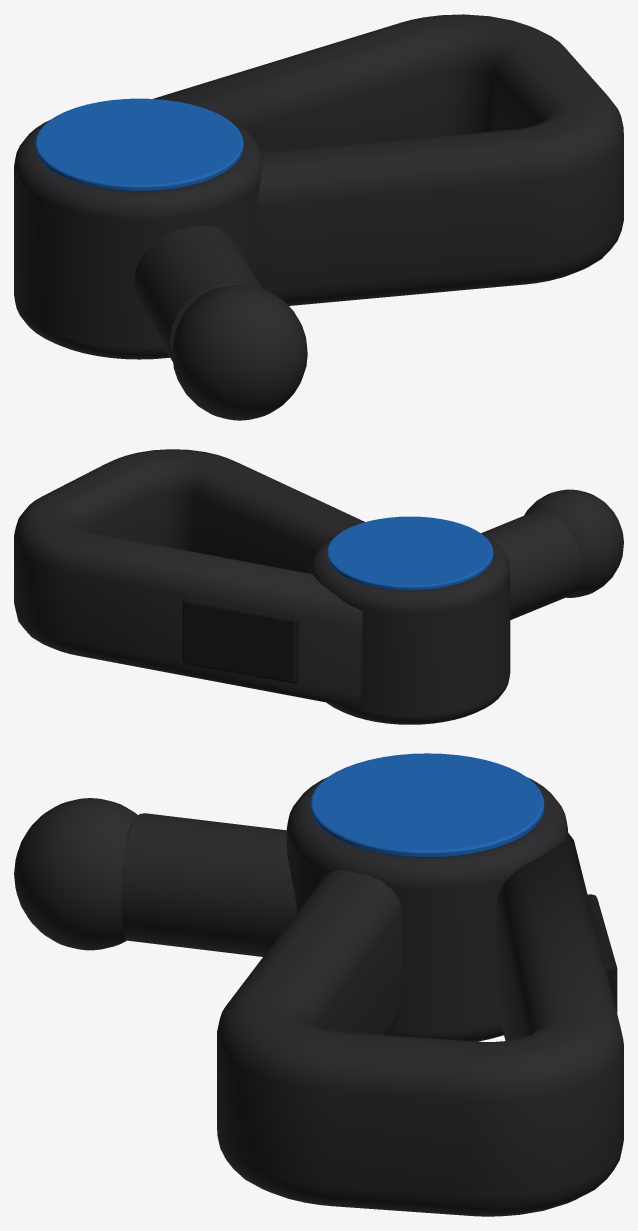
File: theragun-pro-plus_v004.glb
3 renders of one model, top to bottom at view 1: azimuth 30°, elevation 25°; view 2: azimuth 150°, elevation 25°; view 3: azimuth 270°, elevation 25°, orthographic. The views are drawn at different scales.
Visible parts, largest first — view 1: theragun-pro-plus_body, theragun-pro-plus_body.001, theragun-pro-plus_blue, theragun-pro-plus_body.003, theragun-pro-plus_body.002; view 2: theragun-pro-plus_body, theragun-pro-plus_body.001, theragun-pro-plus_blue, theragun-pro-plus_screen, theragun-pro-plus_body.002, theragun-pro-plus_body.003; view 3: theragun-pro-plus_body, theragun-pro-plus_body.001, theragun-pro-plus_body.002, theragun-pro-plus_blue, theragun-pro-plus_body.003, theragun-pro-plus_screen.
Part boxes in pixels (<box>): theragun-pro-plus_body: <box>153,14,623,305</box>; theragun-pro-plus_body.001: <box>14,120,263,359</box>; theragun-pro-plus_blue: <box>35,98,243,191</box>; theragun-pro-plus_body.003: <box>172,285,307,420</box>; theragun-pro-plus_body.002: <box>133,225,262,362</box>; theragun-pro-plus_body: <box>14,449,364,706</box>; theragun-pro-plus_body.001: <box>310,533,510,724</box>; theragun-pro-plus_blue: <box>326,516,493,590</box>; theragun-pro-plus_screen: <box>182,596,298,683</box>; theragun-pro-plus_body.002: <box>481,511,581,619</box>; theragun-pro-plus_body.003: <box>524,489,623,597</box>; theragun-pro-plus_body: <box>217,832,623,1216</box>; theragun-pro-plus_body.001: <box>286,777,567,1041</box>; theragun-pro-plus_body.002: <box>121,813,296,956</box>; theragun-pro-plus_blue: <box>310,753,544,857</box>; theragun-pro-plus_body.003: <box>14,798,137,950</box>; theragun-pro-plus_screen: <box>587,894,617,1013</box>.
Size of the model in its own units: 0.2479 by 0.0725 by 0.2081.
